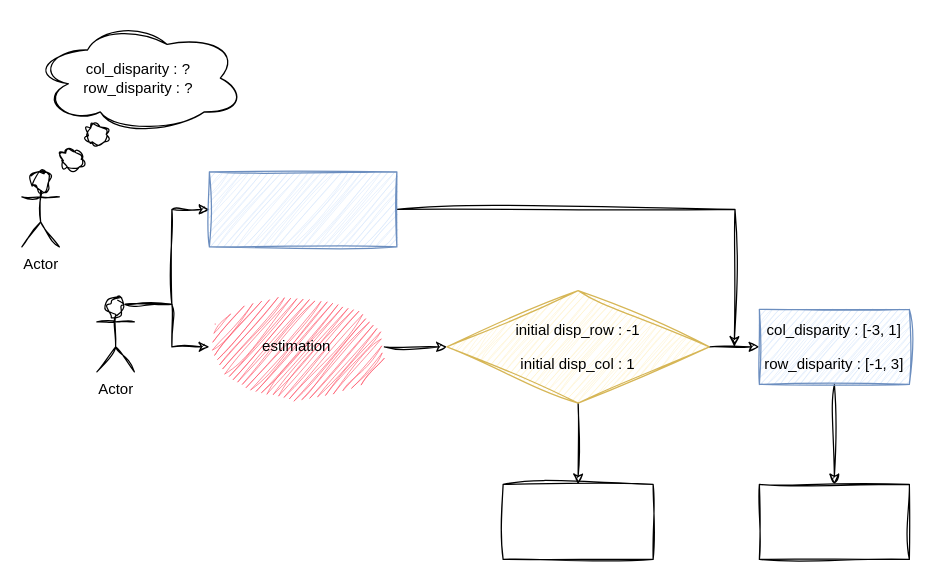
The diagram is 931 pixels wide and 581 high, and some of its shapes have lost their labels. Each missing label, with the box of its shape:
disparity range columns : 5 disparity range rows : 5: (208, 171, 397, 247)
Pandora2D configuration file: (758, 483, 909, 559)
User information: (502, 483, 653, 559)
